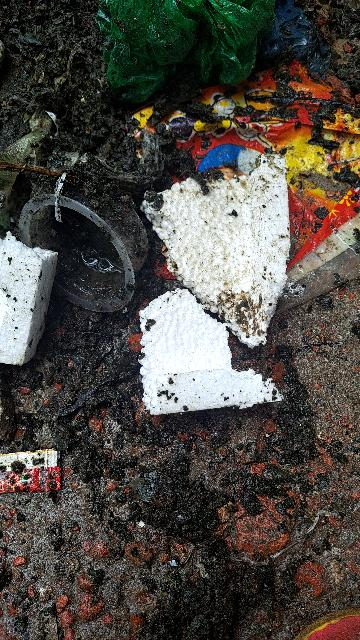cocksheet: (129, 128, 325, 448)
